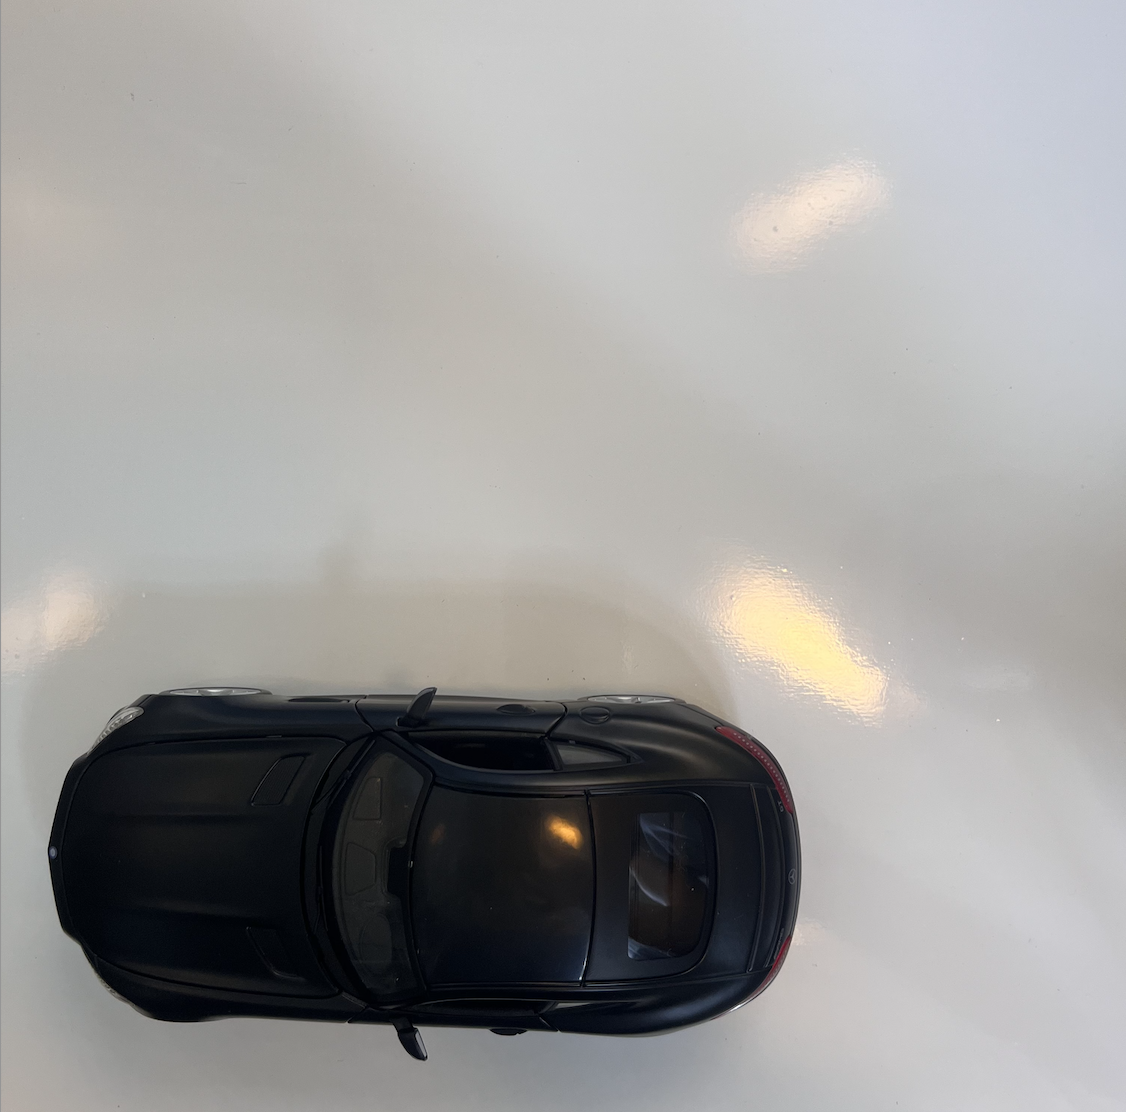car: (46, 685, 801, 1064)
